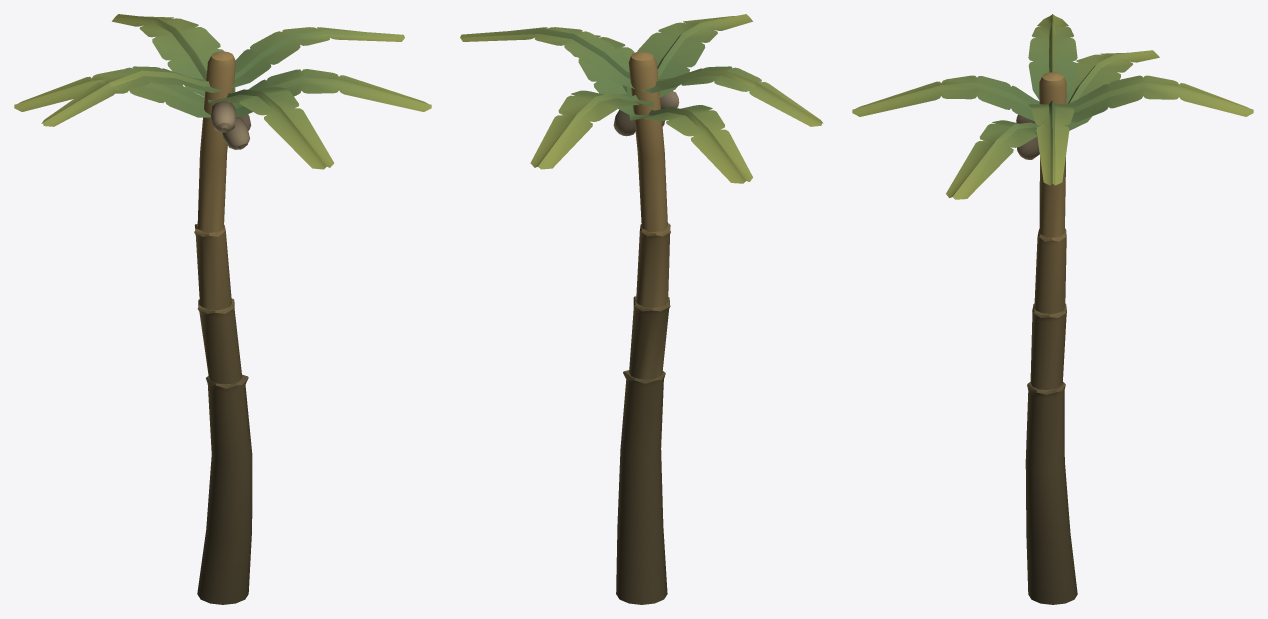
File: palm.glb
The picture shows the model from 3 angles, left to right: view 1: azimuth 30°, elevation 25°; view 2: azimuth 150°, elevation 25°; view 3: azimuth 270°, elevation 25°; orthographic projection. The views are drawn at different scales.
Visible parts, largest first — view 1: palmera; view 2: palmera; view 3: palmera.
Boxes of the visible parts, x1,y1,x2,y2 form: palmera: (14, 14, 431, 604); palmera: (460, 14, 823, 604); palmera: (852, 14, 1253, 604).
Bounding box in the file's own units: 292 × 419 × 292.
Materials: 1 (1 with a texture image).
